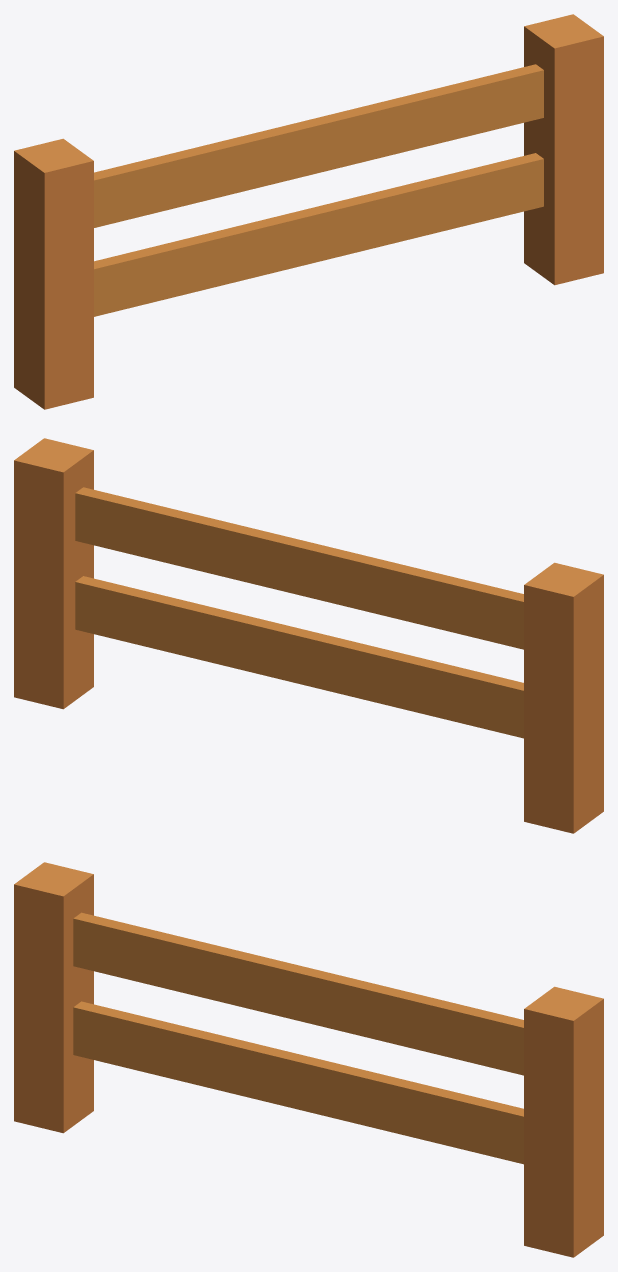
The model's file is Fence.fbx.
3 renders of one model, top to bottom at view 1: azimuth 30°, elevation 25°; view 2: azimuth 150°, elevation 25°; view 3: azimuth 330°, elevation 25°, orthographic.
Visible parts, largest first — view 1: Fence_01; view 2: Fence_01; view 3: Fence_01.
Part boxes in pixels (x1=…): Fence_01: x1=14, y1=14, x2=603, y2=409; Fence_01: x1=14, y1=438, x2=603, y2=833; Fence_01: x1=14, y1=862, x2=603, y2=1257.
Size of the model in its own units: 437 by 177 by 41.22.
